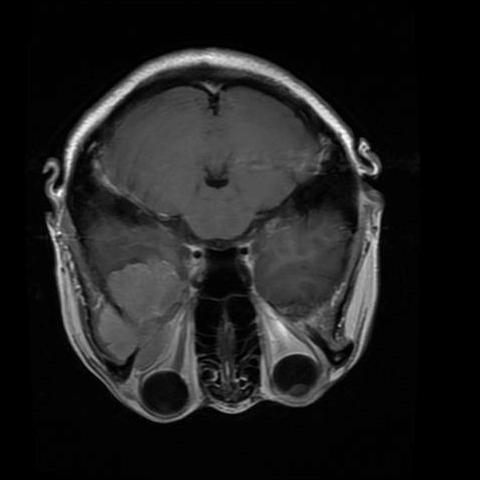Tumour-Meningioma: (94, 220, 193, 323)
